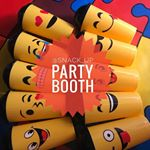cups: (79, 3, 140, 45), (78, 89, 149, 125), (9, 115, 80, 150), (2, 89, 73, 123), (20, 2, 75, 44), (85, 114, 150, 149), (7, 59, 71, 93)
